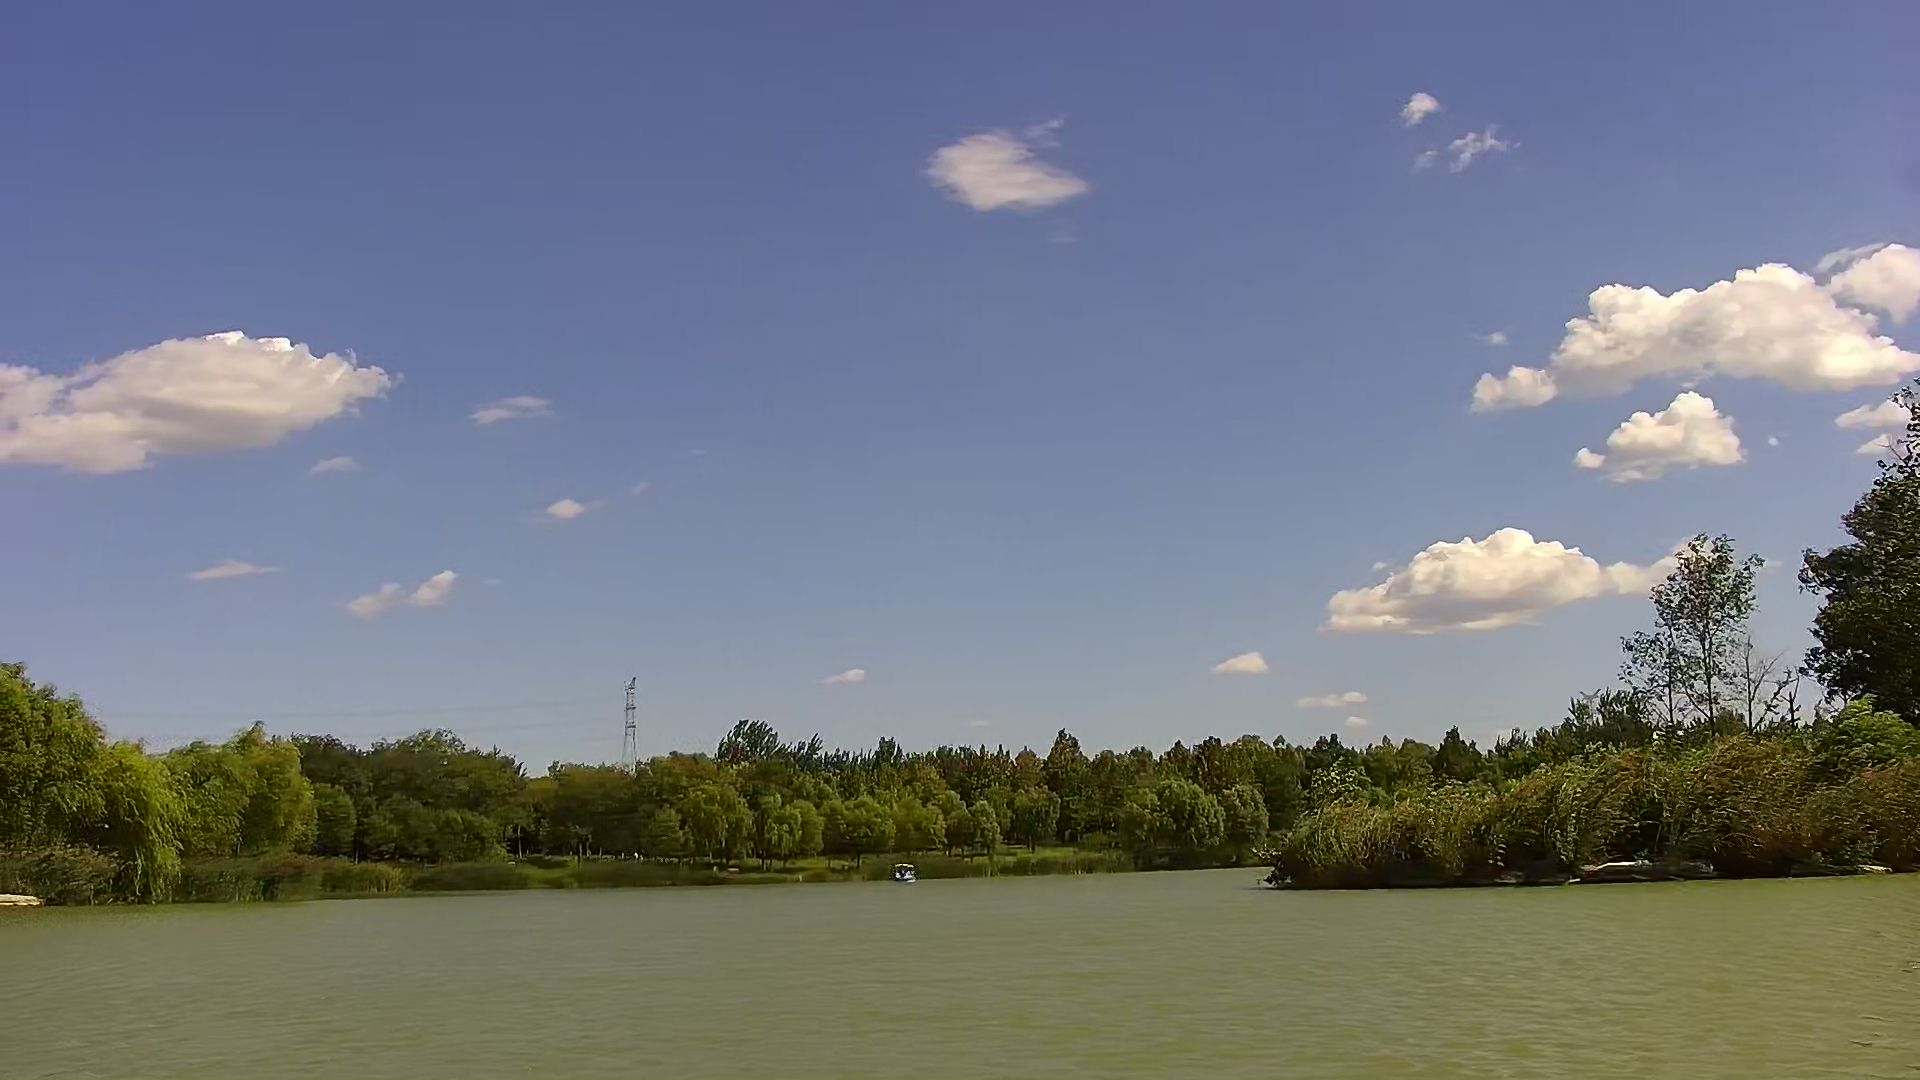boat: (891, 858, 923, 884)
